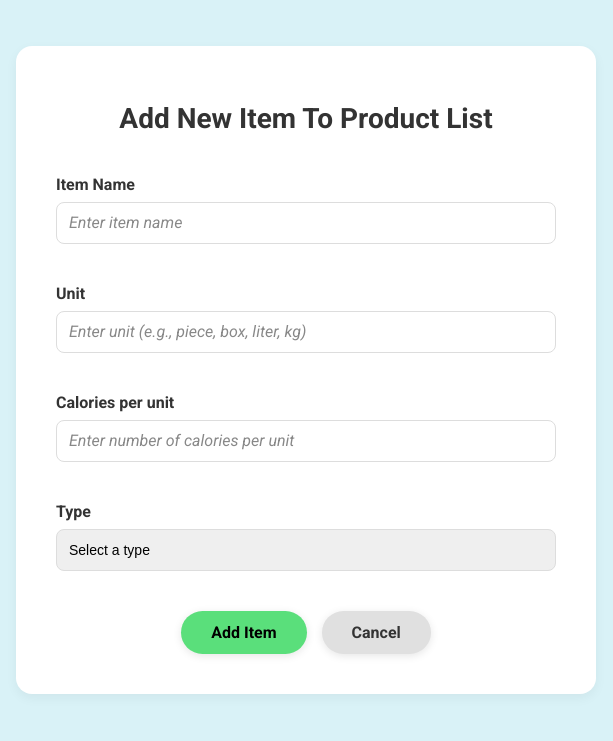
Test: AddItemView › validates empty name field
Fill other required fields
Type "piece" into the field with id "unit". click: point(306, 332)
box: [56,311,556,353]
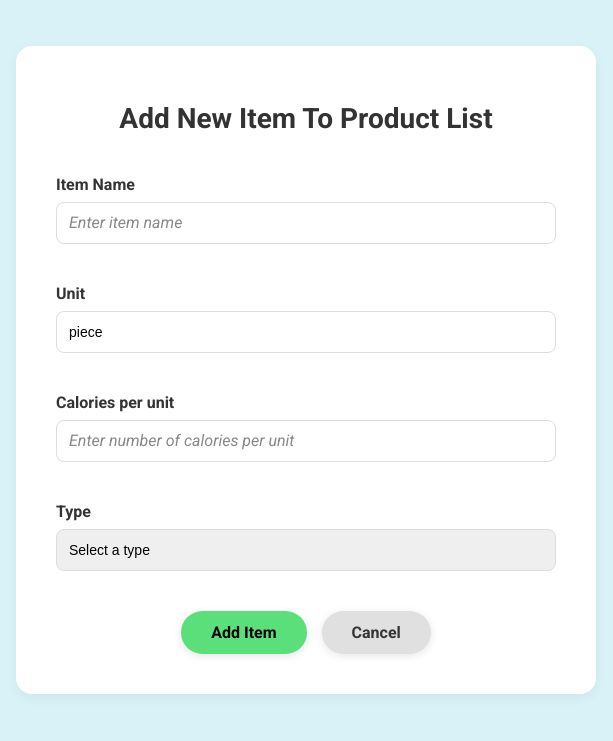
Type "100" into the number field with id "calories". click: point(306, 441)
box: [56,420,556,462]
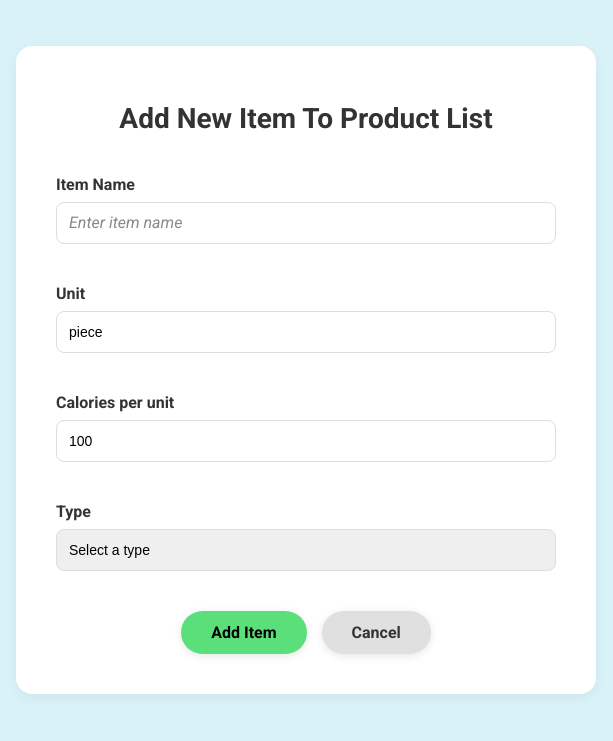
Select "Food" in the dropdown with id "type". click: point(306, 550)
box: [56,529,556,571]
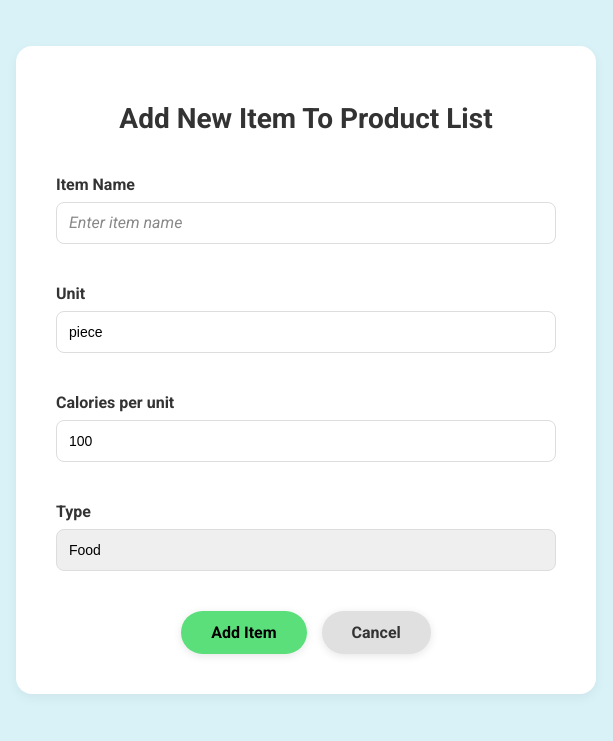
Submit with empty name
Click the button with class "add-button". click: point(244, 632)
box: [181,611,306,654]
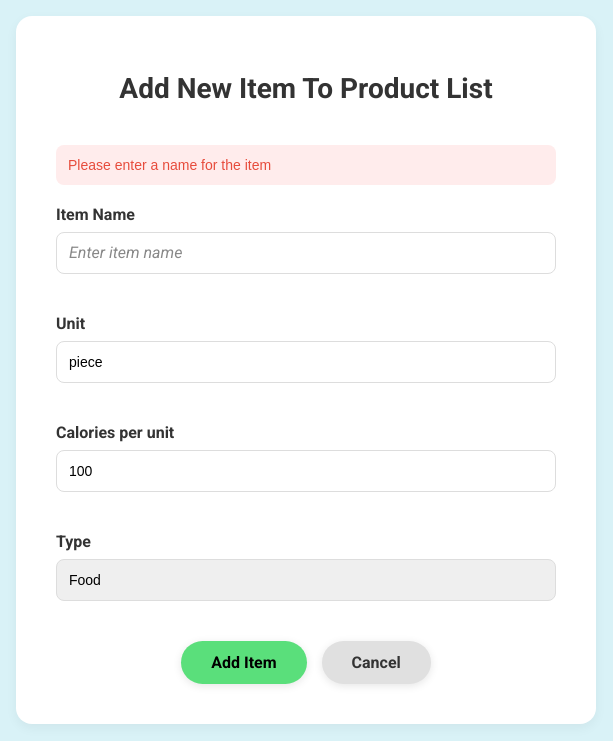
Result: the text with class "error-message" reads "Please enter a name for the item" at [68,157,271,173]
